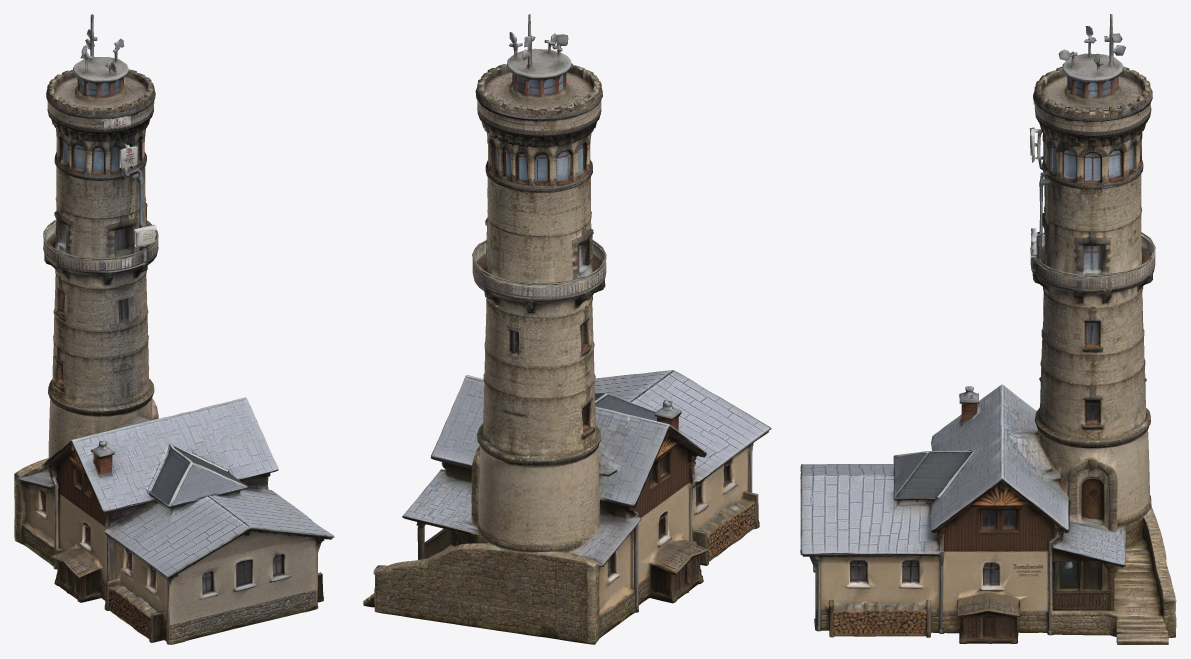
File: hw_turm.glb
The picture shows the model from 3 angles, left to right: view 1: azimuth 30°, elevation 25°; view 2: azimuth 150°, elevation 25°; view 3: azimuth 270°, elevation 25°; orthographic projection. The views are drawn at different scales.
Parts seen in each view (by area): view 1: tripo_node_06f976e5-ba8d-4639-97be-7713216f011a; view 2: tripo_node_06f976e5-ba8d-4639-97be-7713216f011a; view 3: tripo_node_06f976e5-ba8d-4639-97be-7713216f011a.
Boxes of the visible parts, <box> form: tripo_node_06f976e5-ba8d-4639-97be-7713216f011a: <box>14,14,334,644</box>; tripo_node_06f976e5-ba8d-4639-97be-7713216f011a: <box>363,14,771,644</box>; tripo_node_06f976e5-ba8d-4639-97be-7713216f011a: <box>800,14,1176,644</box>.
Bounding box in the file's own units: 0.4095 × 1 × 0.5992.
1 material, 1 textured.
